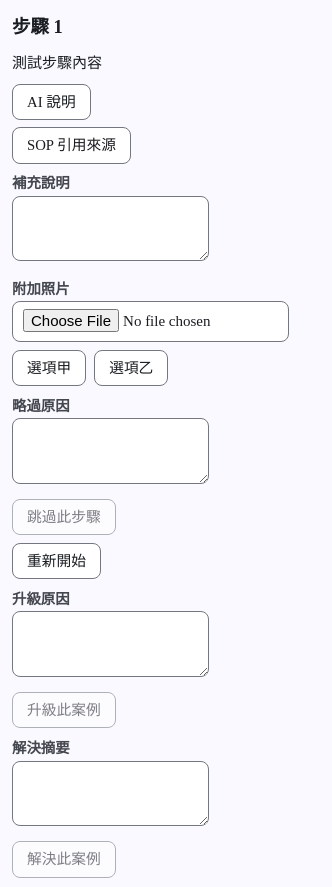
Test: CurrentStepCard skip-step action (E07-S012) › keeps 跳過此步驟 disabled until a reason is typed
The width and height of the screenshot is (332, 887).
Expected: the button "跳過此步驟" is disabled, [12,499,116,535]
Type "現場暫時無法安全接近設備" into the text box labelled "略過原因" at (110, 451), box [12,418,209,484]
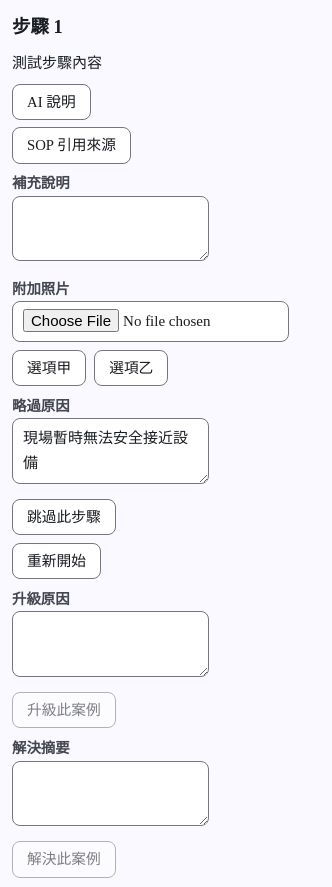
Now the button "跳過此步驟" is enabled, box [12,499,116,535]
